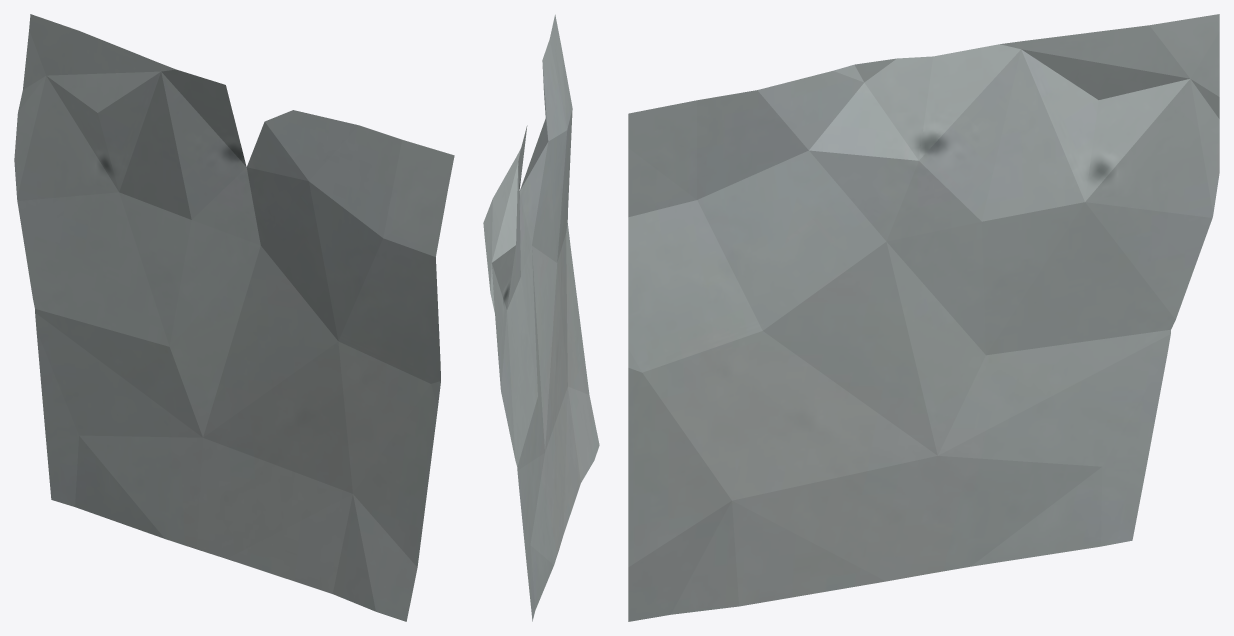
3 renders of one model, left to right at view 1: azimuth 30°, elevation 25°; view 2: azimuth 150°, elevation 25°; view 3: azimuth 270°, elevation 25°, orthographic. The views are drawn at different scales.
Bounding box in the file's own units: 0.3648 × 0.8374 × 0.8374.
3 materials, 3 textured.
